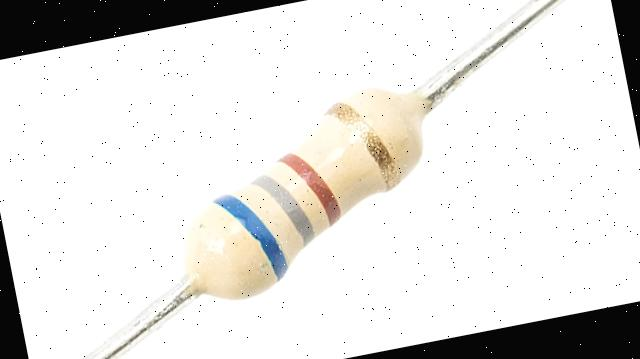blue: (203, 185, 296, 285)
gold: (318, 95, 411, 197)
grey: (247, 166, 324, 251)
red: (269, 141, 354, 232)
resistor: (150, 36, 496, 330)
